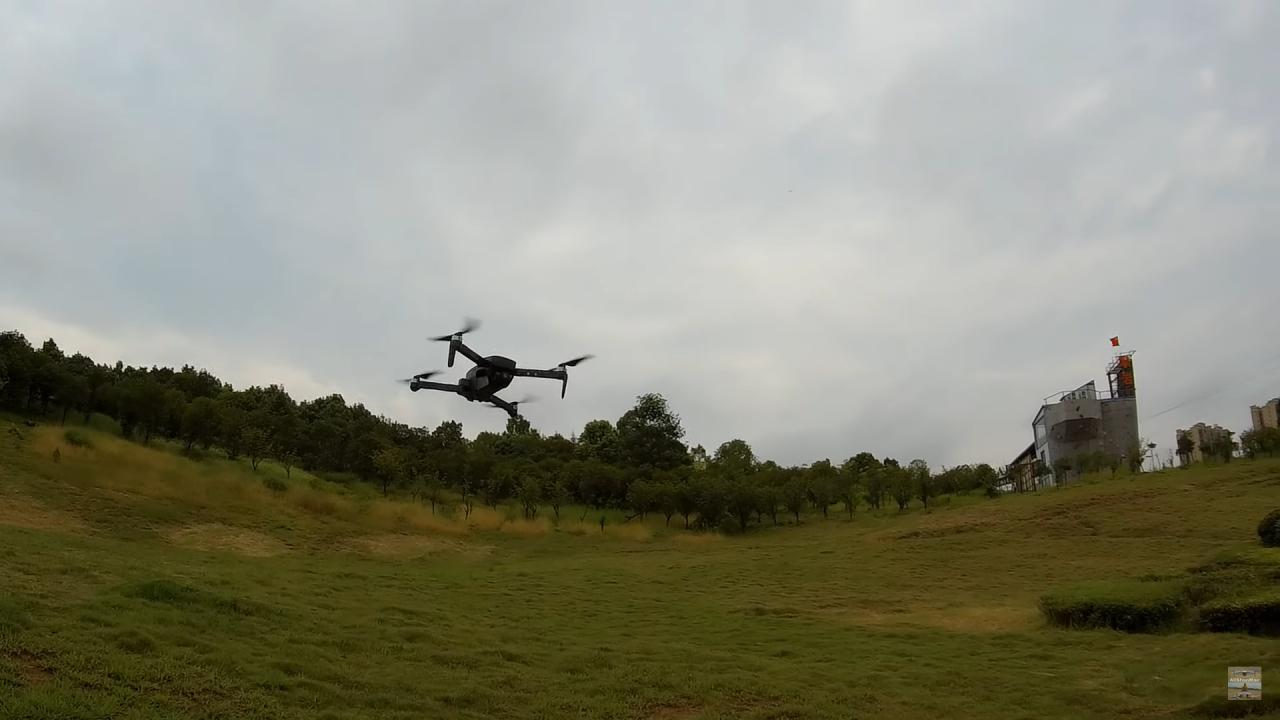Drone: (392, 303, 602, 436)
